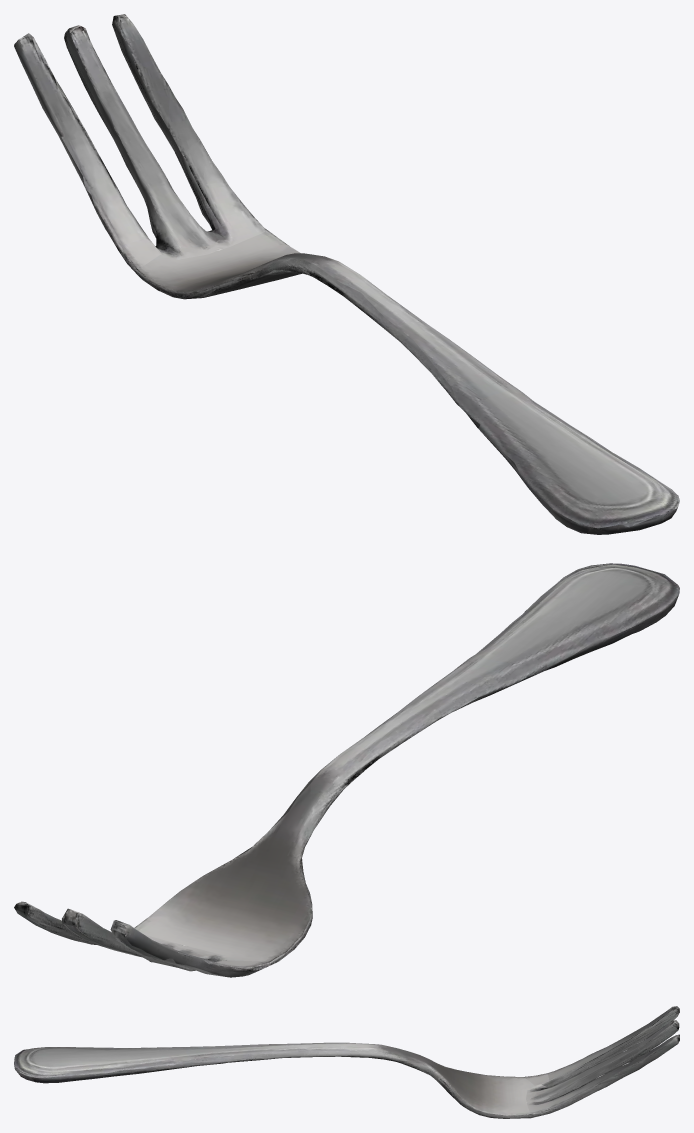
Rendered from fourchette.opt.glb.
3 renders of one model, top to bottom at view 1: azimuth 30°, elevation 25°; view 2: azimuth 150°, elevation 25°; view 3: azimuth 270°, elevation 25°, orthographic. The views are drawn at different scales.
Visible parts, largest first — view 1: fourchette; view 2: fourchette; view 3: fourchette.
Part boxes in pixels (x1,y1,x2,y2): fourchette: (14,14,679,534); fourchette: (14,563,679,977); fourchette: (14,1006,679,1118).
Size of the model in its own units: 0.1408 by 0.1392 by 0.998.
Materials: 1 (1 with a texture image).
